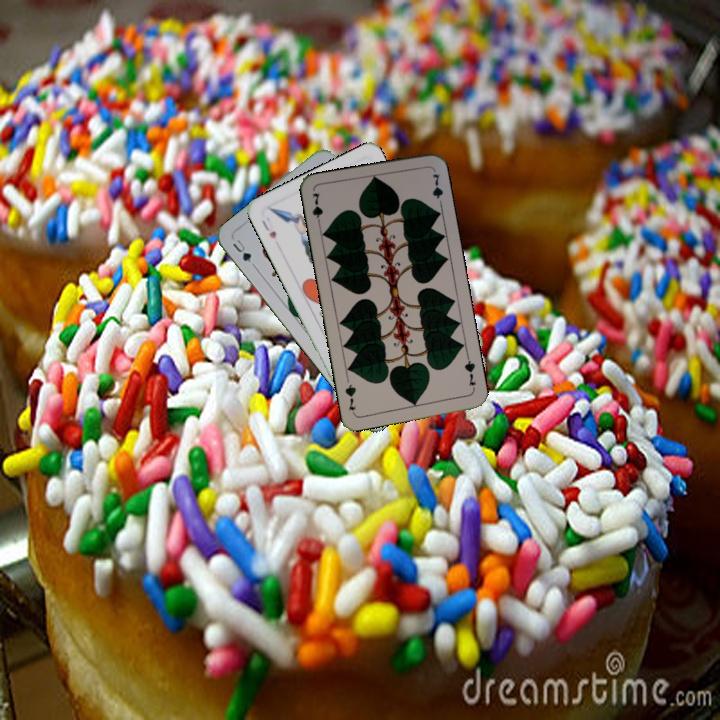G7: (308, 188, 326, 229), (461, 353, 479, 393)
GU: (228, 235, 254, 265)
HU: (258, 216, 279, 242)
